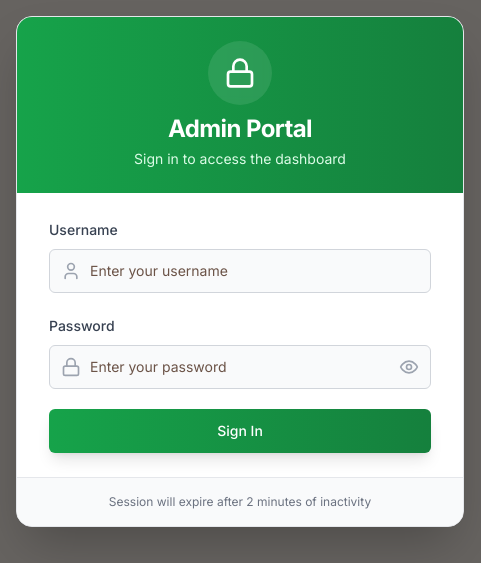
Scenario: AdminLoginModal › shows loading state during submission
The image size is (481, 563).
Type "admin" into the field with placeholder "Enter your username" at {"x": 240, "y": 270}, box top-left (49, 248), bottom-right (431, 292)
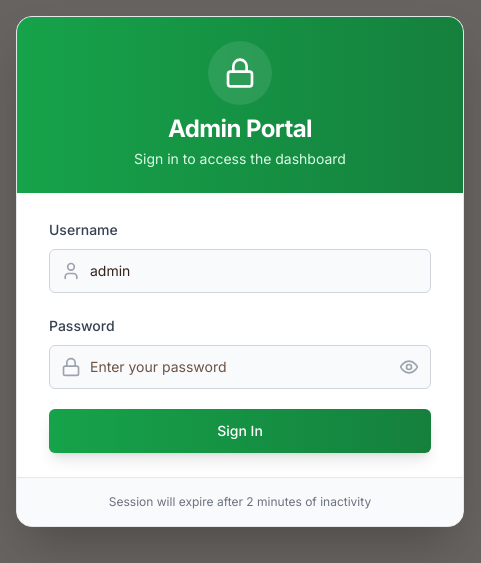
Type "password" into the password field with placeholder "Enter your password" at {"x": 240, "y": 366}, box top-left (49, 344), bottom-right (431, 388)
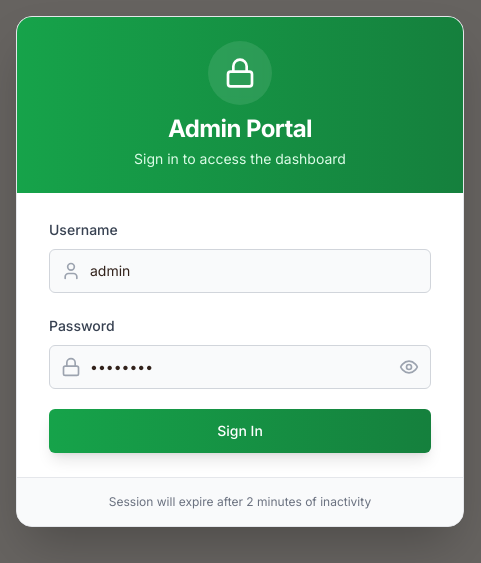
Click the button "Sign In" at {"x": 240, "y": 430}, box top-left (49, 408), bottom-right (431, 452)
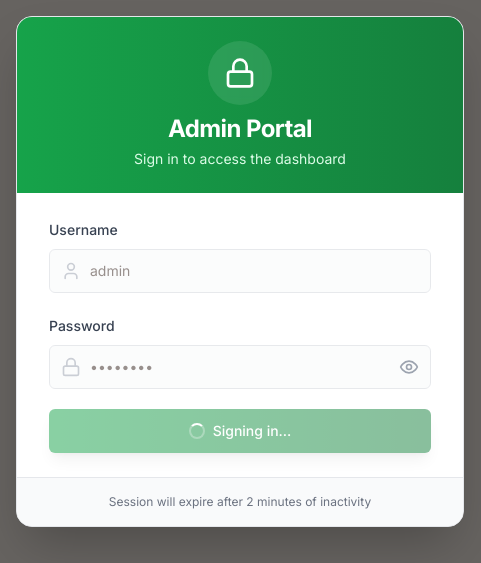
Check: the text "Signing in..." is shown, box top-left (213, 420), bottom-right (291, 440)
